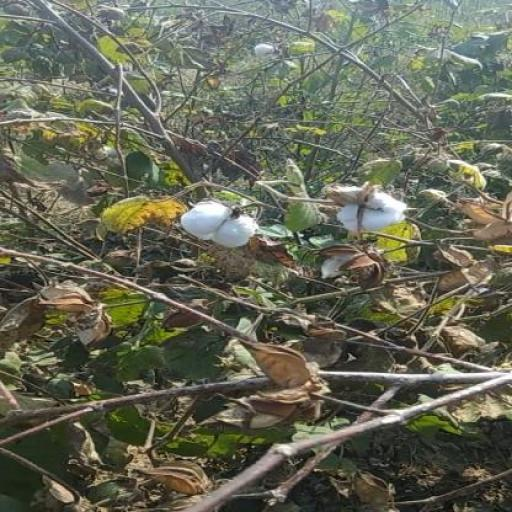cotton_ready: (307, 179, 428, 243), (159, 198, 272, 266)
